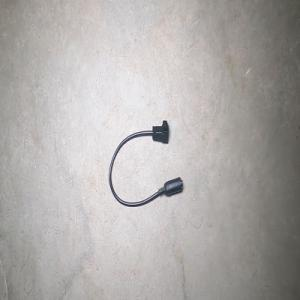Wire: (109, 120, 183, 207)
